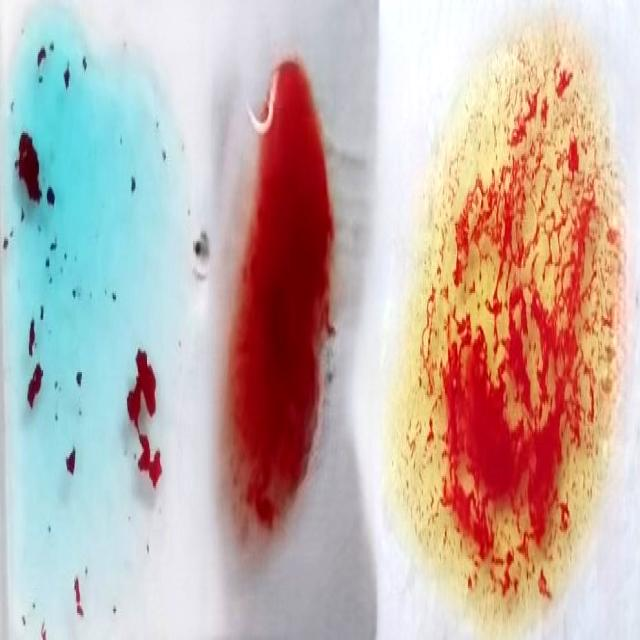A: (12, 32, 155, 628)
B: (406, 2, 628, 636)
D: (216, 67, 332, 532)
